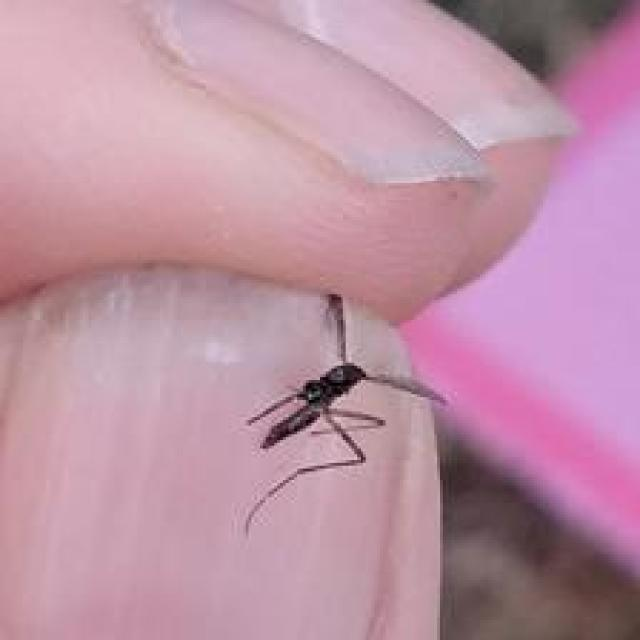Aedes albopictus: (240, 292, 449, 537)
